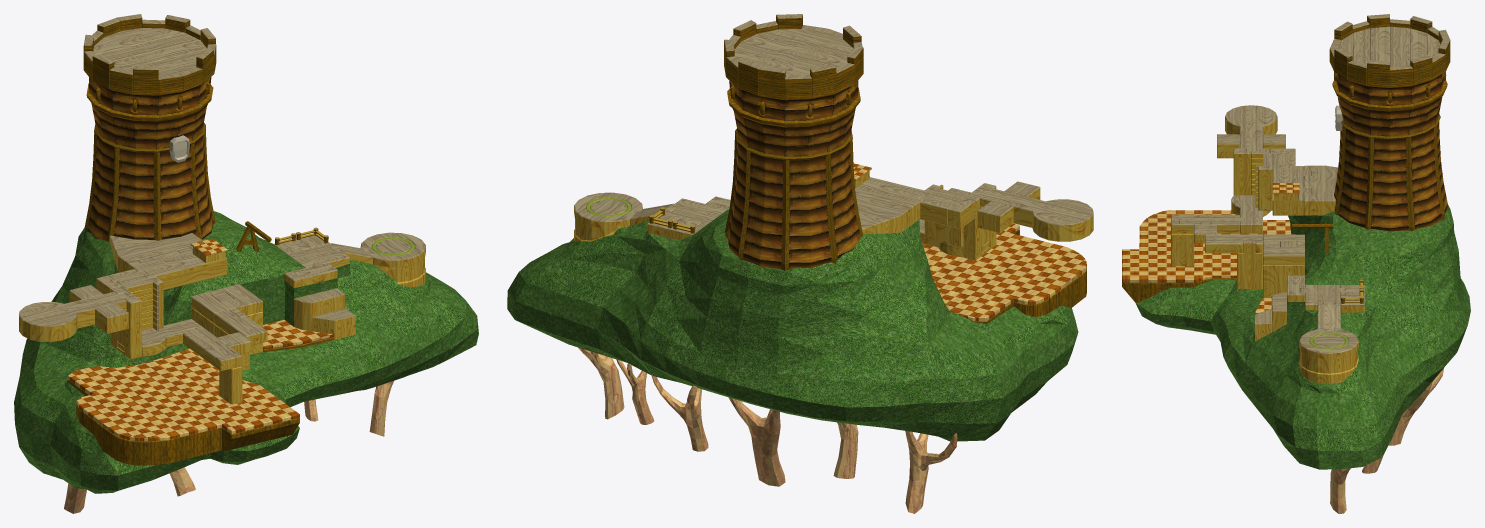
The model's file is ForestHomePartsTreeTower.dae.
3 renders of one model, left to right at view 1: azimuth 30°, elevation 25°; view 2: azimuth 150°, elevation 25°; view 3: azimuth 270°, elevation 25°, orthographic. The views are drawn at different scales.
Parts seen in each view (by area): view 1: m7, m3, m1, m5, m0, m2, m8; view 2: m7, m5, m3, m0, m1, m8, m2; view 3: m7, m3, m5, m2, m0, m1, m8.
Boxes of the visible parts, x1,y1,x2,y2 form: m7: [14, 211, 478, 493]; m3: [19, 14, 425, 361]; m1: [67, 238, 334, 441]; m5: [87, 77, 213, 240]; m0: [67, 18, 334, 465]; m2: [19, 230, 425, 404]; m8: [64, 381, 393, 513]; m7: [507, 209, 1078, 441]; m5: [727, 80, 986, 321]; m3: [574, 14, 1093, 247]; m0: [649, 15, 1086, 323]; m1: [853, 163, 1086, 321]; m8: [578, 347, 957, 513]; m2: [574, 171, 1093, 260]; m7: [1135, 205, 1470, 469]; m3: [1171, 14, 1449, 353]; m5: [1334, 73, 1447, 231]; m2: [1171, 117, 1364, 384]; m0: [1122, 16, 1450, 303]; m1: [1122, 183, 1299, 313]; m8: [1330, 368, 1443, 513].
Size of the model in its own units: 8978 by 7508 by 6072.
10 materials, 10 textured.
